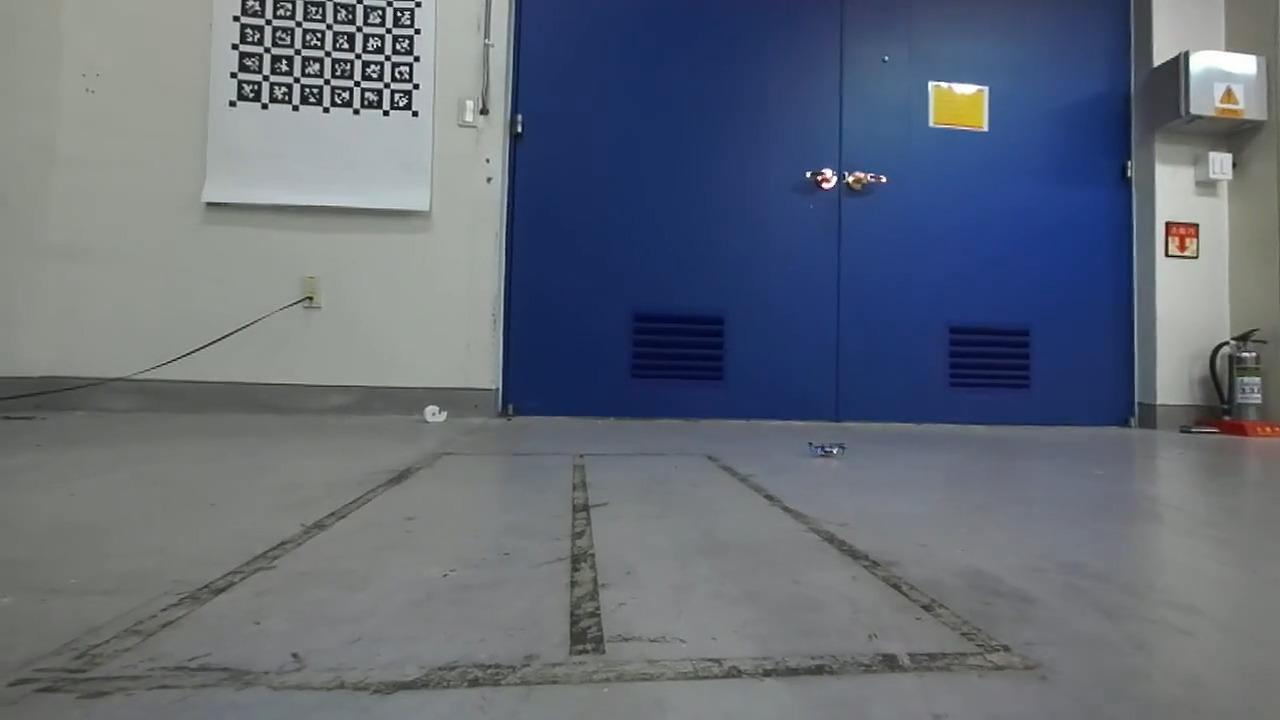crazyflie: (801, 435, 855, 461)
